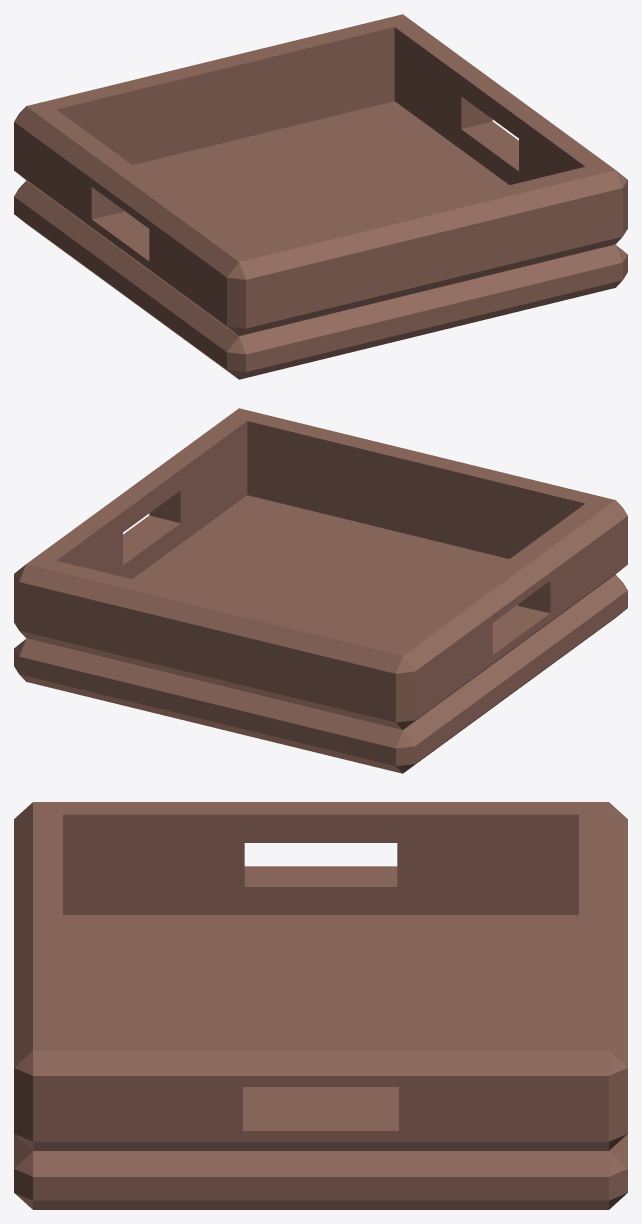
Rendered from crate.fbx.
3 views of the same model, one above another, from view 1: azimuth 30°, elevation 25°; view 2: azimuth 150°, elevation 25°; view 3: azimuth 270°, elevation 25° (orthographic). The views are drawn at different scales.
Visible parts, largest first — view 1: Cube.002, Cube.001; view 2: Cube.002, Cube.001; view 3: Cube.002, Cube.001.
Boxes of the visible parts, left/top/right/bottom form: Cube.002: left=14, top=14, right=627, bottom=335; Cube.001: left=14, top=101, right=627, bottom=379; Cube.002: left=14, top=408, right=627, bottom=729; Cube.001: left=14, top=495, right=627, bottom=773; Cube.002: left=14, top=802, right=627, bottom=1150; Cube.001: left=14, top=915, right=627, bottom=1209.
Bounding box in the file's own units: 531 × 152 × 542.
